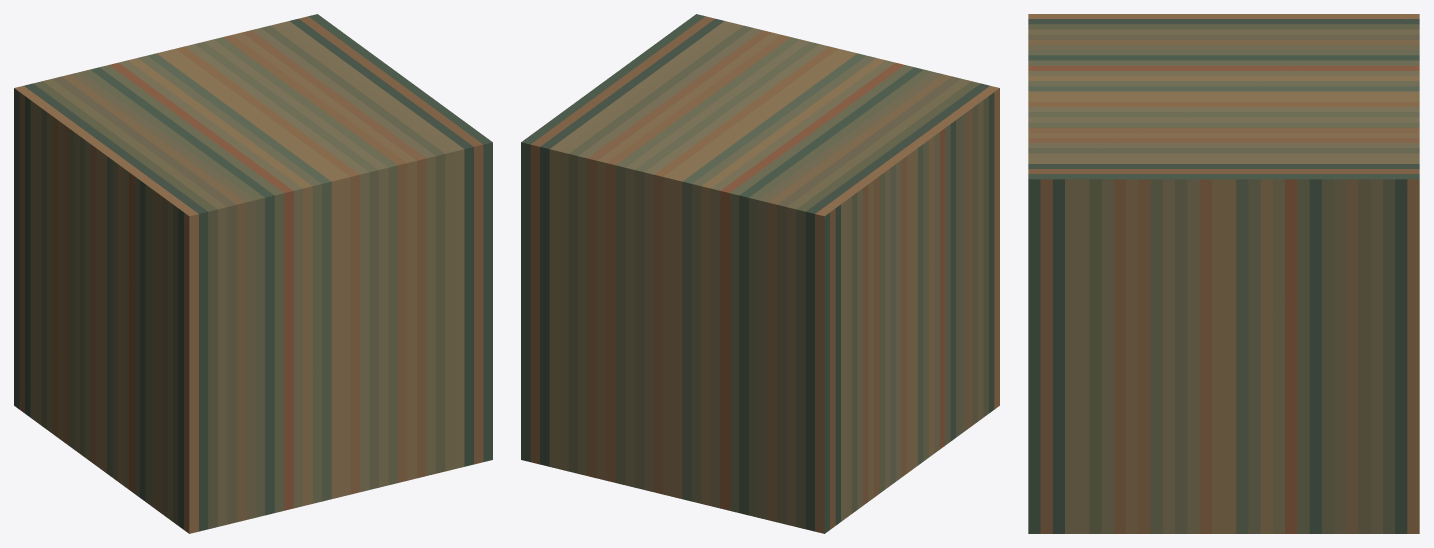
File: Escenario.obj
3 views of the same model, side by side, from view 1: azimuth 30°, elevation 25°; view 2: azimuth 150°, elevation 25°; view 3: azimuth 270°, elevation 25° (orthographic). The views are drawn at different scales.
Visible parts, largest first — view 1: Cube; view 2: Cube; view 3: Cube.
Part boxes in pixels (box(x1,y1,x2,y2)): Cube: box(14, 14, 492, 533); Cube: box(521, 14, 999, 533); Cube: box(1028, 14, 1419, 533).
Size of the model in its own units: 34 by 34 by 34.
